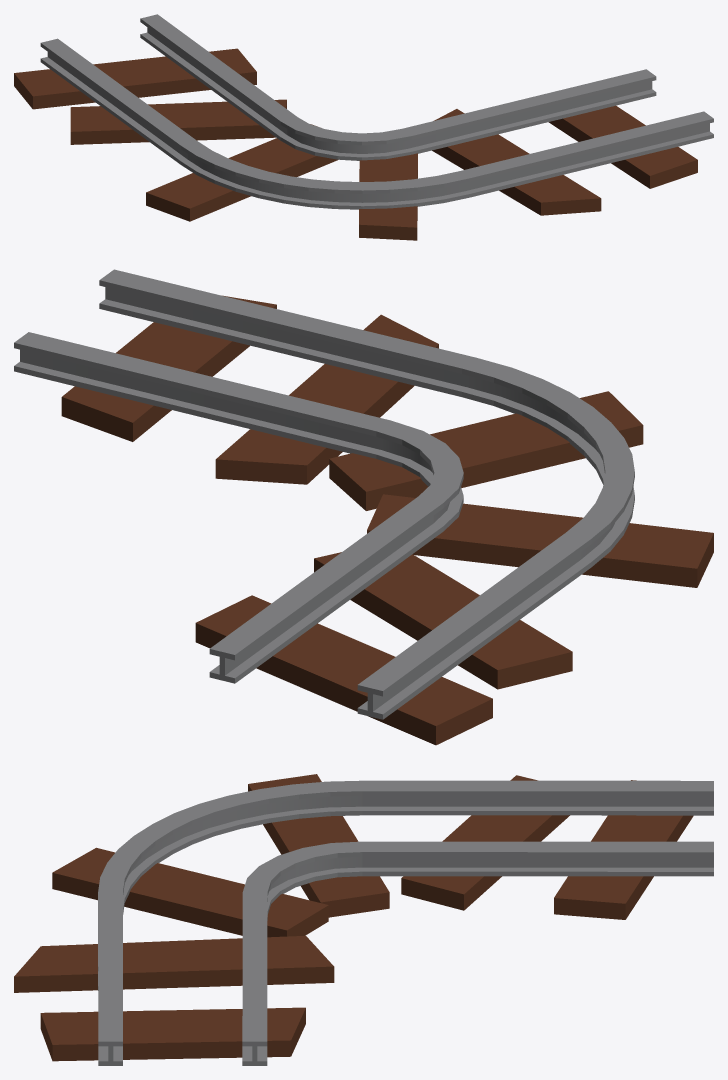
File: rail_turn_1.fbx
The picture shows the model from 3 angles, top to bottom: view 1: azimuth 30°, elevation 25°; view 2: azimuth 150°, elevation 25°; view 3: azimuth 270°, elevation 25°; orthographic projection. The views are drawn at different scales.
Parts seen in each view (by area): view 1: rail067, planks011; view 2: rail067, planks011; view 3: planks011, rail067.
Part boxes in pixels (<box>): rail067: <box>40,14,713,209</box>; planks011: <box>14,48,697,240</box>; rail067: <box>14,269,634,719</box>; planks011: <box>61,295,713,745</box>; planks011: <box>14,774,693,1061</box>; rail067: <box>98,780,713,1065</box>.
Size of the model in its own units: 75.86 by 5.07 by 76.46.
